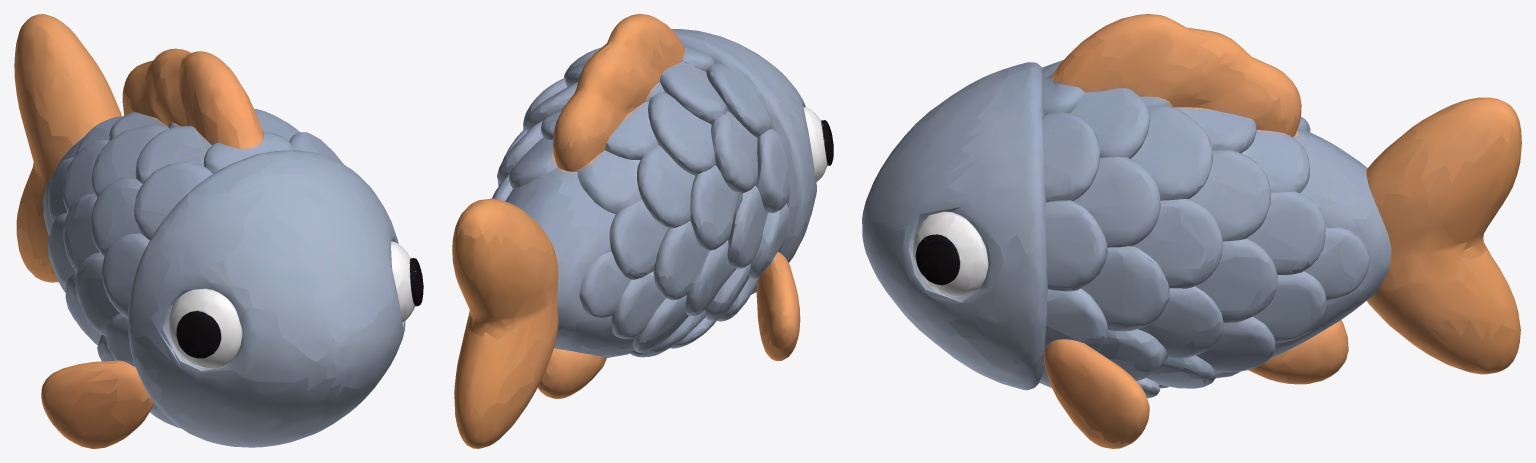
The model's file is vis.glb.
3 renders of one model, left to right at view 1: azimuth 30°, elevation 25°; view 2: azimuth 150°, elevation 25°; view 3: azimuth 270°, elevation 25°, orthographic. The views are drawn at different scales.
Parts seen in each view (by area): view 1: Mesh_0; view 2: Mesh_0; view 3: Mesh_0.
Boxes of the visible parts, bbox=[...] form: Mesh_0: bbox=[14, 14, 423, 448]; Mesh_0: bbox=[452, 14, 833, 448]; Mesh_0: bbox=[862, 14, 1521, 448].
Bounding box in the file's own units: 1.19 × 1.17 × 1.9.
Materials: 1 (1 with a texture image).
